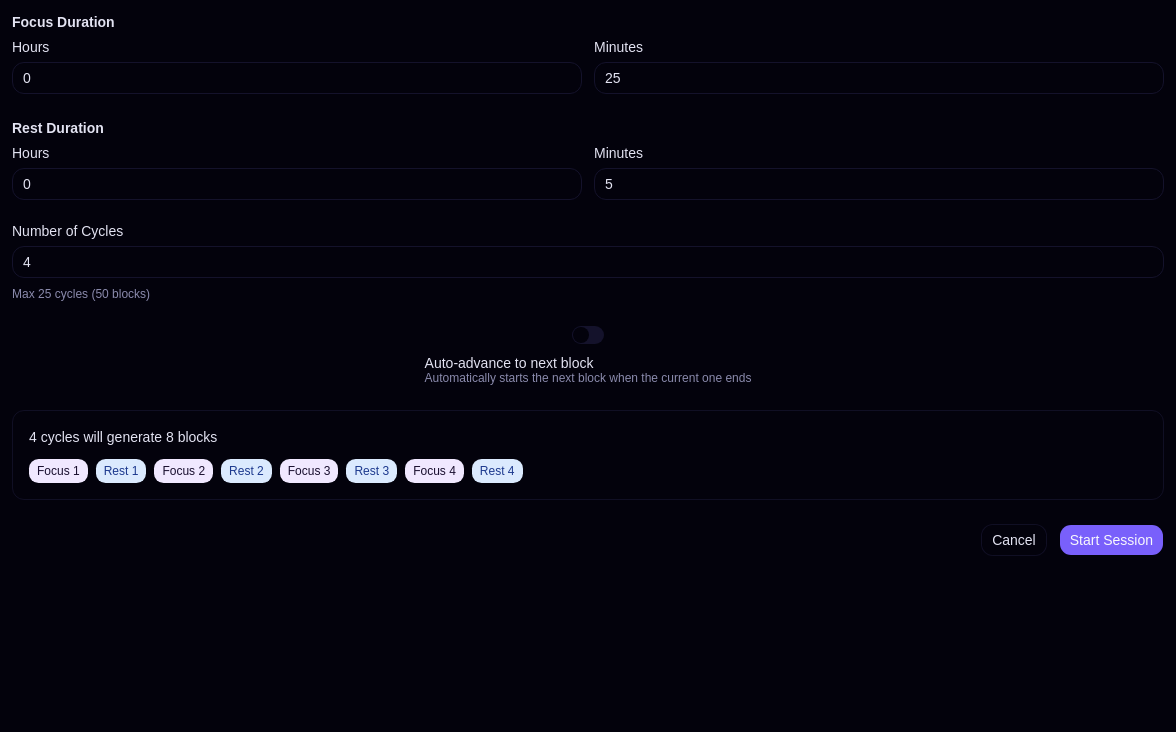
Test: TraditionalForm › blocks submission when focus duration is invalid (0m)
Replace the text in the 1st number field labelled "Minutes" with "0" at (879, 78), box [594,62,1164,94]
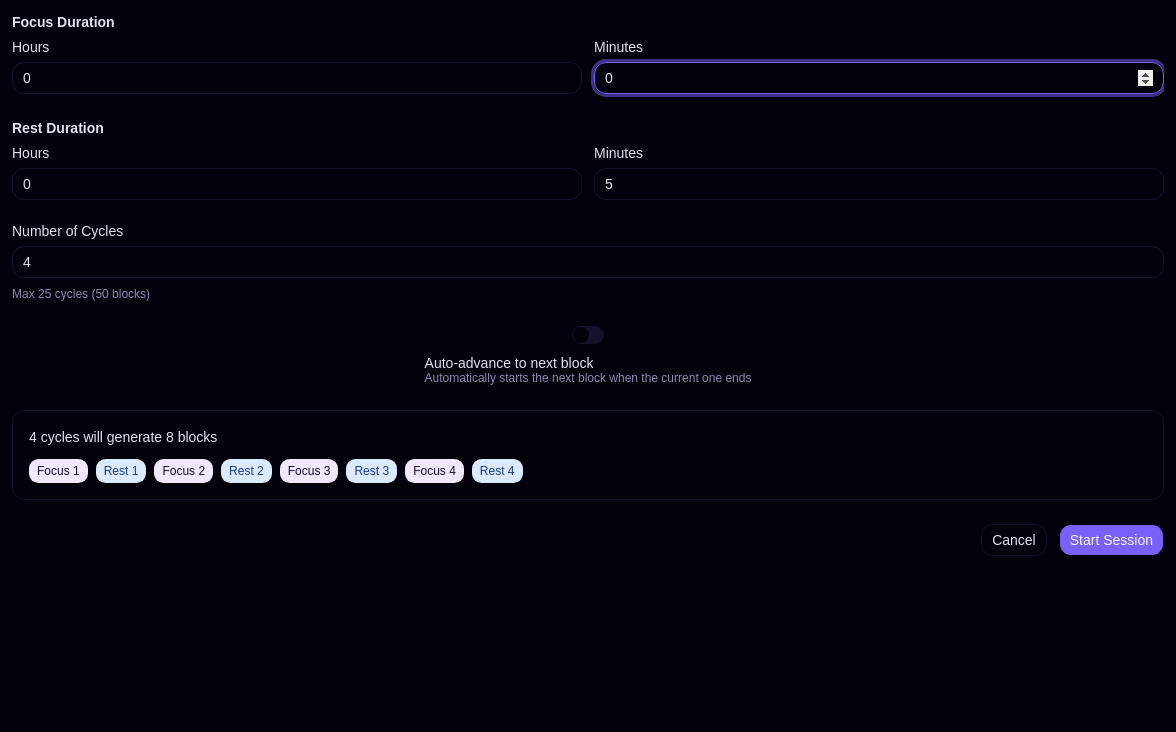
Click the button "Start Session" at (1111, 540), box [1059,524,1164,556]
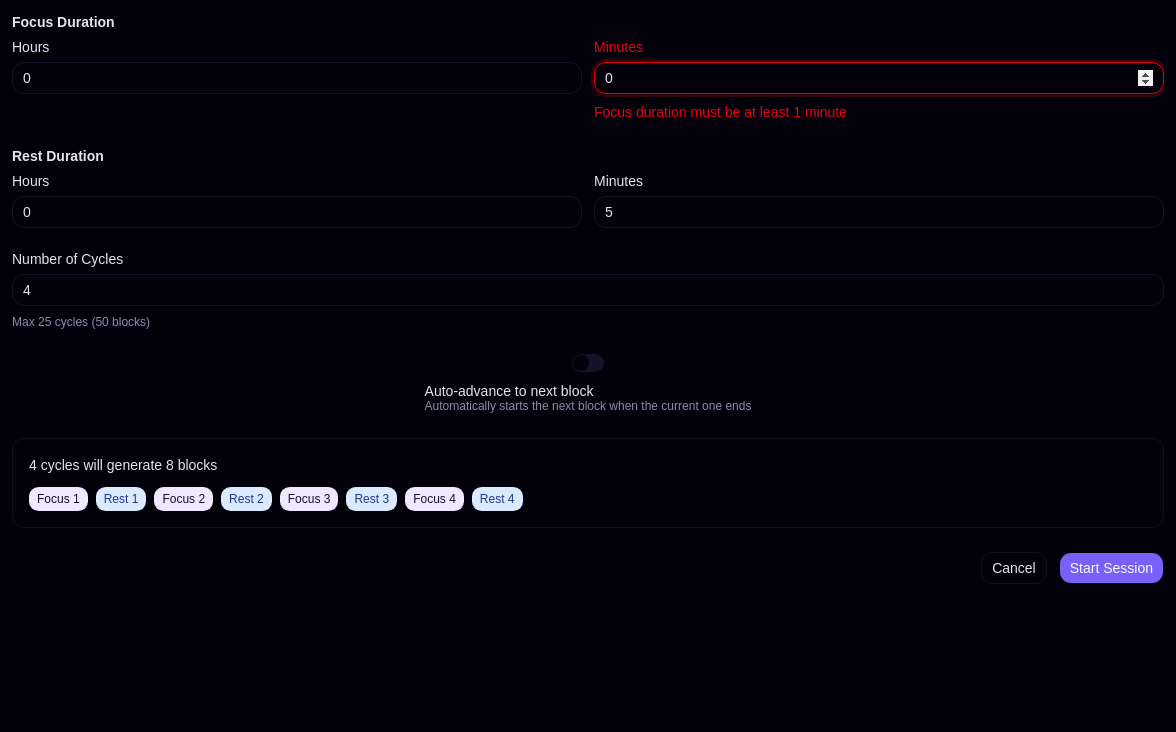
Now the text "Focus duration must be at least 1 minute" is shown, box [594,104,847,120]
